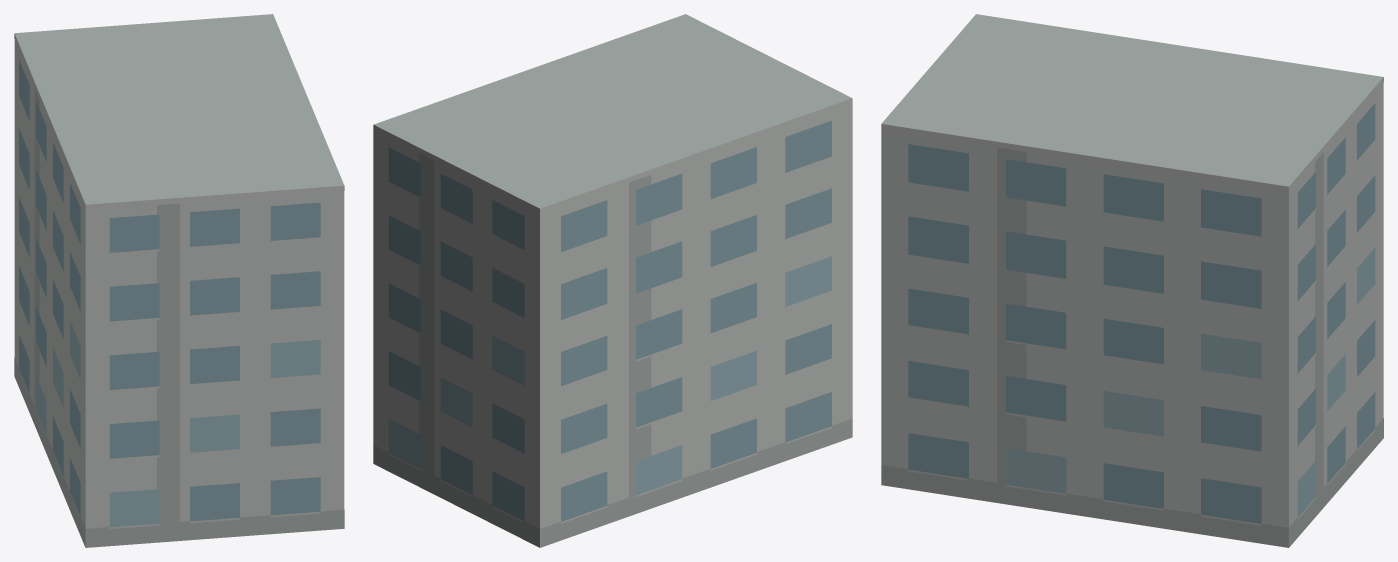
File: residential-2bc87bf0-16d7-45eb-9a5e-1825b7479c54.glb
3 views of the same model, side by side, from view 1: azimuth 30°, elevation 25°; view 2: azimuth 150°, elevation 25°; view 3: azimuth 270°, elevation 25° (orthographic). The views are drawn at different scales.
Parts seen in each view (by area): view 1: residential-2bc87bf0-16d7-45eb-9a5e-1825b7479c54.tmp; view 2: residential-2bc87bf0-16d7-45eb-9a5e-1825b7479c54.tmp; view 3: residential-2bc87bf0-16d7-45eb-9a5e-1825b7479c54.tmp.
Boxes of the visible parts, box(x1,y1,x2,y2) form: residential-2bc87bf0-16d7-45eb-9a5e-1825b7479c54.tmp: box(14, 14, 344, 547); residential-2bc87bf0-16d7-45eb-9a5e-1825b7479c54.tmp: box(373, 14, 852, 547); residential-2bc87bf0-16d7-45eb-9a5e-1825b7479c54.tmp: box(881, 14, 1383, 547).
Size of the model in its own units: 15.64 by 15.25 by 19.24.
